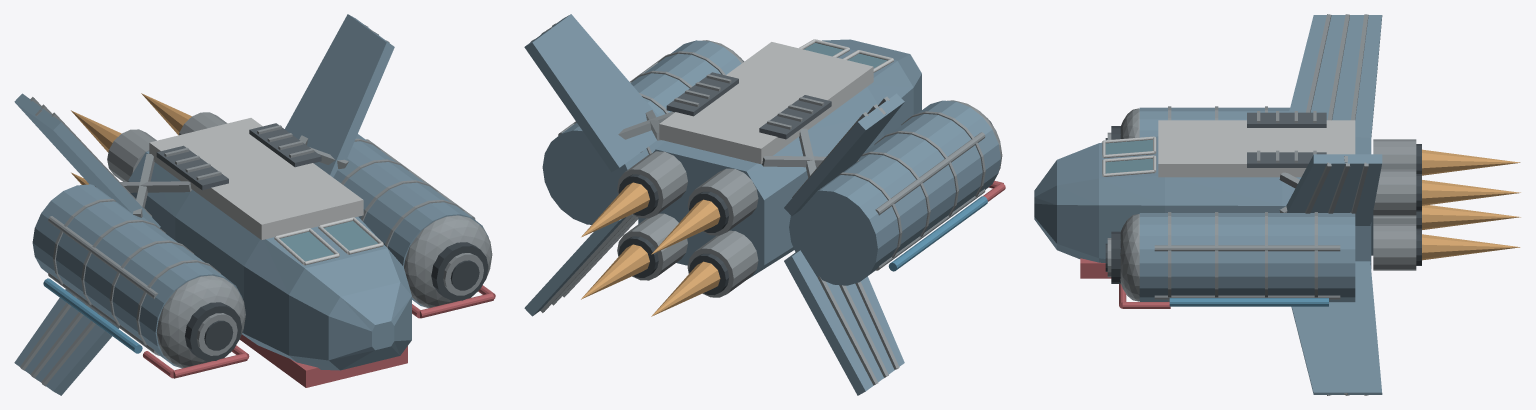
Rendered from earp_blue_flight.glb.
The picture shows the model from 3 angles, left to right: view 1: azimuth 30°, elevation 25°; view 2: azimuth 150°, elevation 25°; view 3: azimuth 270°, elevation 25°; orthographic projection. The views are drawn at different scales.
Parts seen in each view (by area): view 1: material_0, material_4, material_2, material_1, material_5, material_9, material_3, material_7, material_6; view 2: material_0, material_4, material_2, material_7, material_5, material_9, material_6, material_3; view 3: material_0, material_4, material_2, material_7, material_9, material_5, material_6, material_3, material_1.
Part boxes in pixels (<box>): material_0: <box>14,14,488,395</box>; material_4: <box>20,25,492,386</box>; material_2: <box>149,118,383,265</box>; material_1: <box>143,285,495,387</box>; material_5: <box>185,242,488,361</box>; material_9: <box>156,123,321,190</box>; material_3: <box>280,221,377,261</box>; material_7: <box>71,93,191,184</box>; material_6: <box>43,278,142,353</box>; material_0: <box>524,14,1000,395</box>; material_4: <box>530,23,1002,385</box>; material_2: <box>659,39,893,163</box>; material_7: <box>581,182,720,316</box>; material_5: <box>618,60,993,295</box>; material_9: <box>666,72,831,139</box>; material_6: <box>888,196,987,271</box>; material_3: <box>804,43,887,68</box>; material_0: <box>1034,15,1382,394</box>; material_4: <box>1107,14,1416,395</box>; material_2: <box>1102,120,1355,177</box>; material_7: <box>1422,149,1520,260</box>; material_9: <box>1247,112,1326,167</box>; material_5: <box>1105,126,1421,283</box>; material_6: <box>1169,298,1328,306</box>; material_3: <box>1105,139,1152,173</box>; material_1: <box>1080,258,1170,308</box>.
Size of the model in its own units: 3.75 by 2.87 by 5.19.
